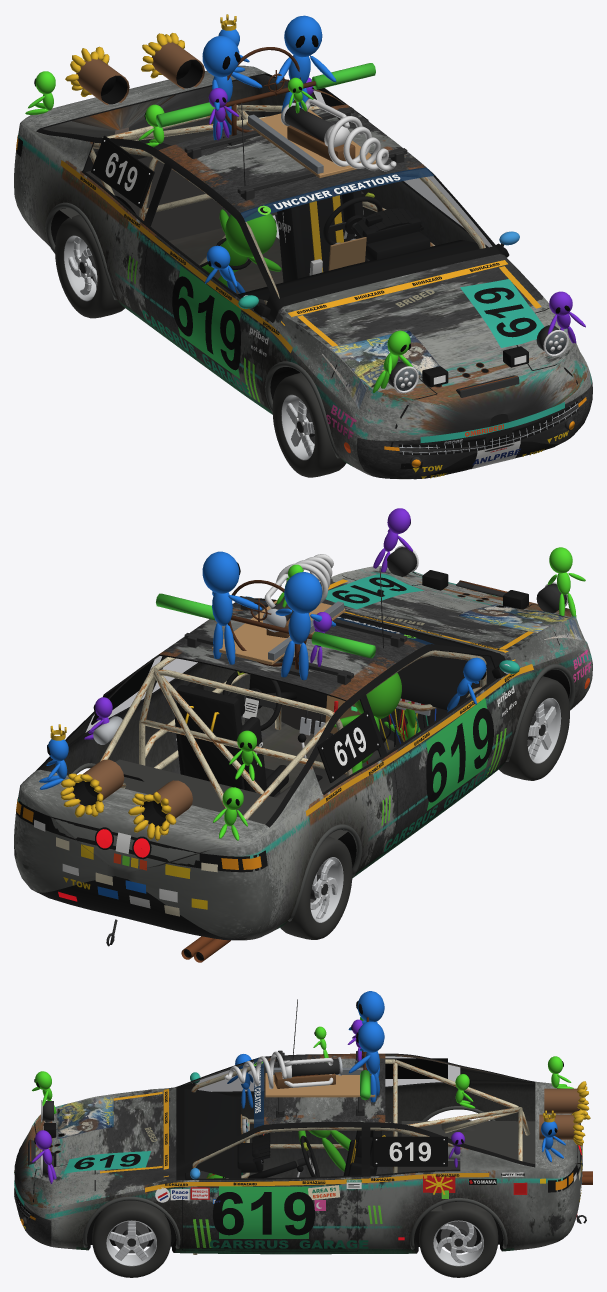
The model's file is probe.glb.
3 renders of one model, top to bottom at view 1: azimuth 30°, elevation 25°; view 2: azimuth 150°, elevation 25°; view 3: azimuth 270°, elevation 25°, orthographic. The views are drawn at different scales.
Parts seen in each view (by area): view 1: body, wheel_fr, wheel_rr, flap_03, flap_04, flap_02, steering_wheel, flap_01, flap_10, flap_08, flap_05; view 2: body, wheel_fr, wheel_rr, flap_04, flap_03, flap_02, flap_07, flap_01, steering_wheel, flap_08, flap_10, flap_11; view 3: body, wheel_fl, wheel_rl, flap_03, flap_04, flap_07, flap_01, steering_wheel, flap_10, flap_08, flap_02, flap_11.
Boxes of the visible parts, left/top/right/bottom form: body: left=14, top=33, right=592, bottom=479; wheel_fr: left=272, top=373, right=346, bottom=477; wheel_rr: left=55, top=214, right=124, bottom=318; flap_03: left=275, top=15, right=336, bottom=112; flap_04: left=202, top=36, right=262, bottom=140; flap_02: left=373, top=330, right=412, bottom=392; steering_wheel: left=323, top=192, right=382, bottom=245; flap_01: left=547, top=291, right=585, bottom=343; flap_10: left=205, top=245, right=245, bottom=293; flap_08: left=25, top=71, right=55, bottom=114; flap_05: left=208, top=88, right=238, bottom=140; body: left=14, top=545, right=592, bottom=962; wheel_fr: left=499, top=676, right=569, bottom=780; wheel_rr: left=280, top=836, right=352, bottom=939; flap_04: left=275, top=572, right=336, bottom=680; flap_03: left=202, top=551, right=262, bottom=664; flap_02: left=547, top=547, right=585, bottom=617; flap_07: left=39, top=724, right=68, bottom=789; flap_01: left=373, top=508, right=412, bottom=572; steering_wheel: left=222, top=671, right=281, bottom=730; flap_08: left=213, top=787, right=247, bottom=840; flap_10: left=447, top=657, right=486, bottom=712; flap_11: left=229, top=730, right=261, bottom=780; body: left=14, top=999, right=592, bottom=1254; wheel_fl: left=92, top=1200, right=171, bottom=1277; wheel_rl: left=419, top=1202, right=498, bottom=1277; flap_03: left=348, top=1021, right=384, bottom=1102; flap_04: left=348, top=991, right=384, bottom=1076; flap_07: left=541, top=1110, right=565, bottom=1162; flap_01: left=32, top=1130, right=56, bottom=1183; steering_wheel: left=297, top=1135, right=319, bottom=1176; flap_10: left=227, top=1054, right=253, bottom=1108; flap_08: left=548, top=1056, right=573, bottom=1088; flap_02: left=32, top=1071, right=56, bottom=1113; flap_11: left=455, top=1074, right=475, bottom=1108.
Size of the model in its own units: 1.95 by 2 by 4.63.
62 materials, 5 textured.
